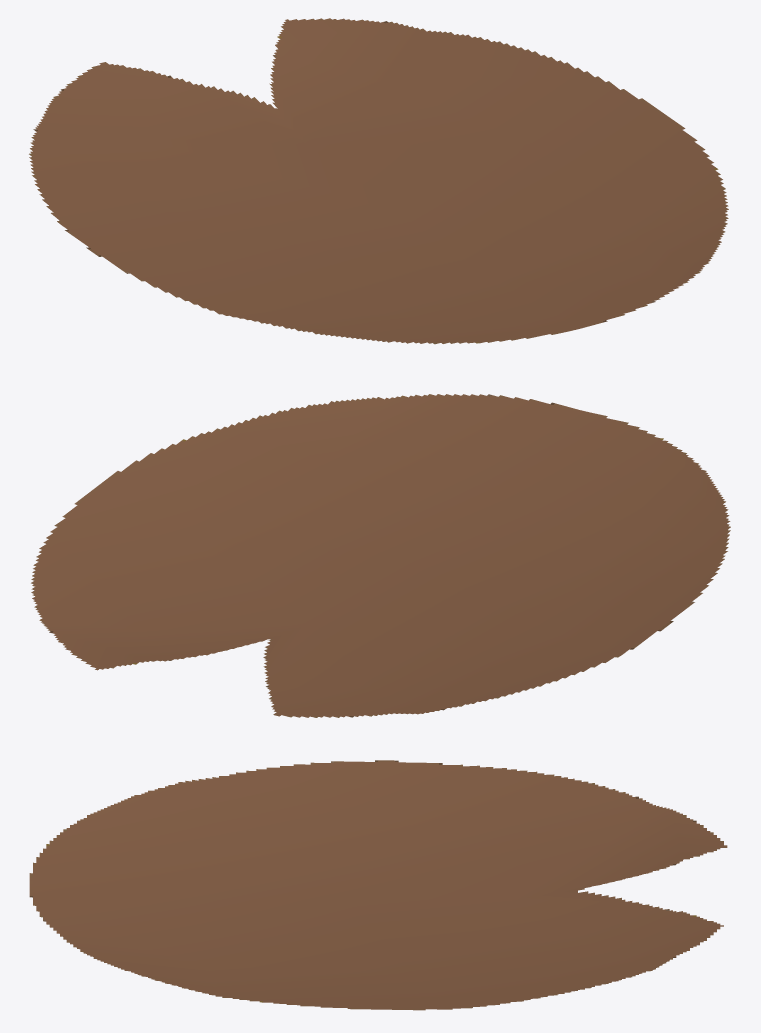
File: Water_Lily_Leaf_3.gltf
3 renders of one model, top to bottom at view 1: azimuth 30°, elevation 25°; view 2: azimuth 150°, elevation 25°; view 3: azimuth 270°, elevation 25°, orthographic. The views are drawn at different scales.
Visible parts, largest first — view 1: Water_Lily_Leaf_3; view 2: Water_Lily_Leaf_3; view 3: Water_Lily_Leaf_3.
Boxes of the visible parts, <box> form: Water_Lily_Leaf_3: <box>29,18,728,344</box>; Water_Lily_Leaf_3: <box>31,394,730,717</box>; Water_Lily_Leaf_3: <box>29,760,727,1010</box>.
Size of the model in its own units: 22.6 by 0.5871 by 26.11.
Materials: 1 (1 with a texture image).
